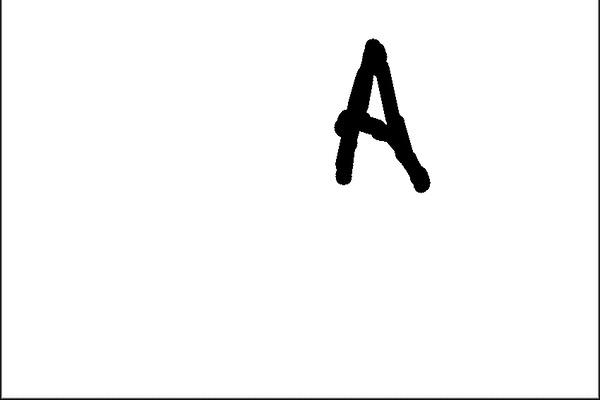A: (319, 31, 439, 201)
